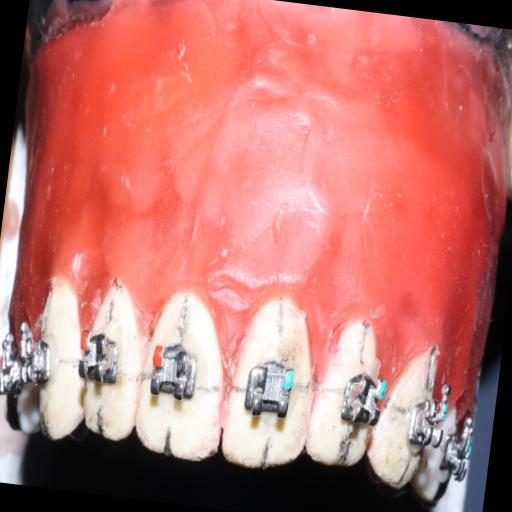incorrect_brace: (140, 335, 202, 414), (241, 352, 302, 430)
